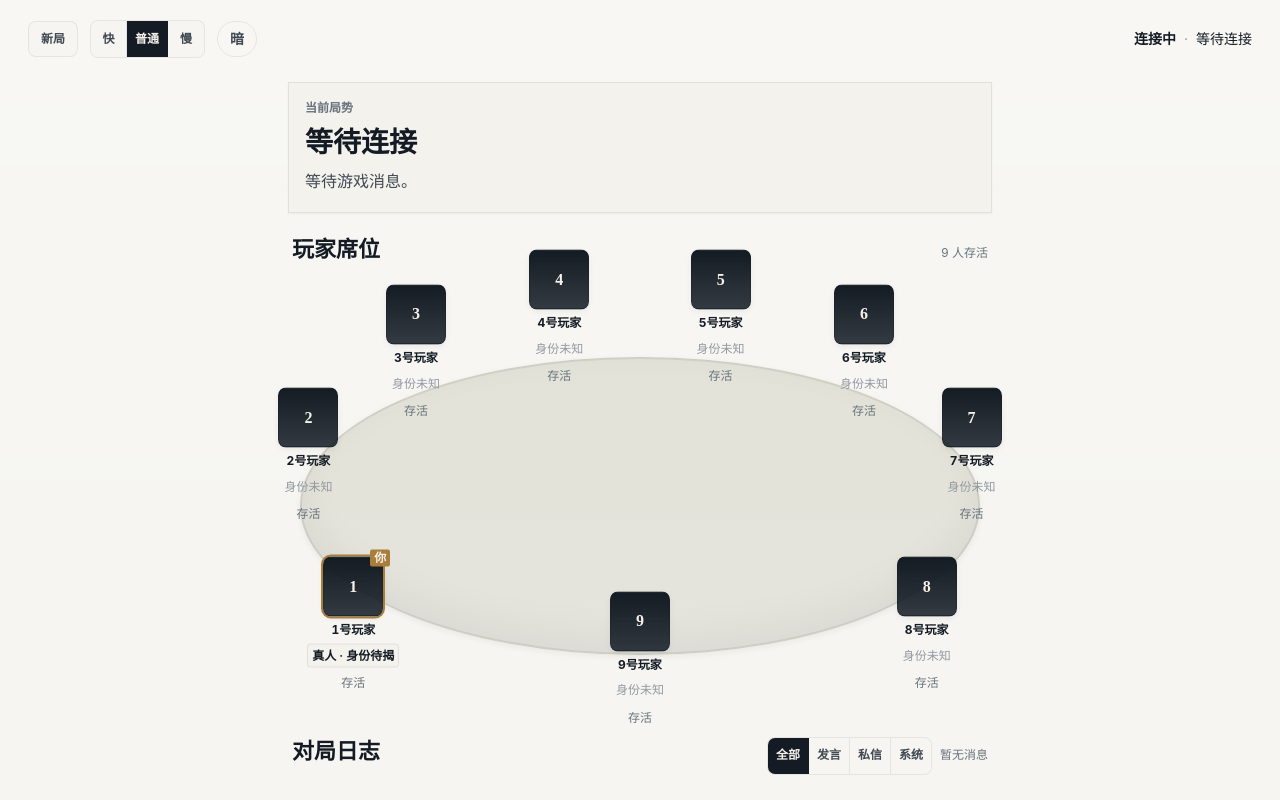
Scenario: App › toggles and persists the manual theme
The width and height of the screenshot is (1280, 800).
Click the button named "切换至暗色主题". click: (237, 39)
box: [217,21,257,57]
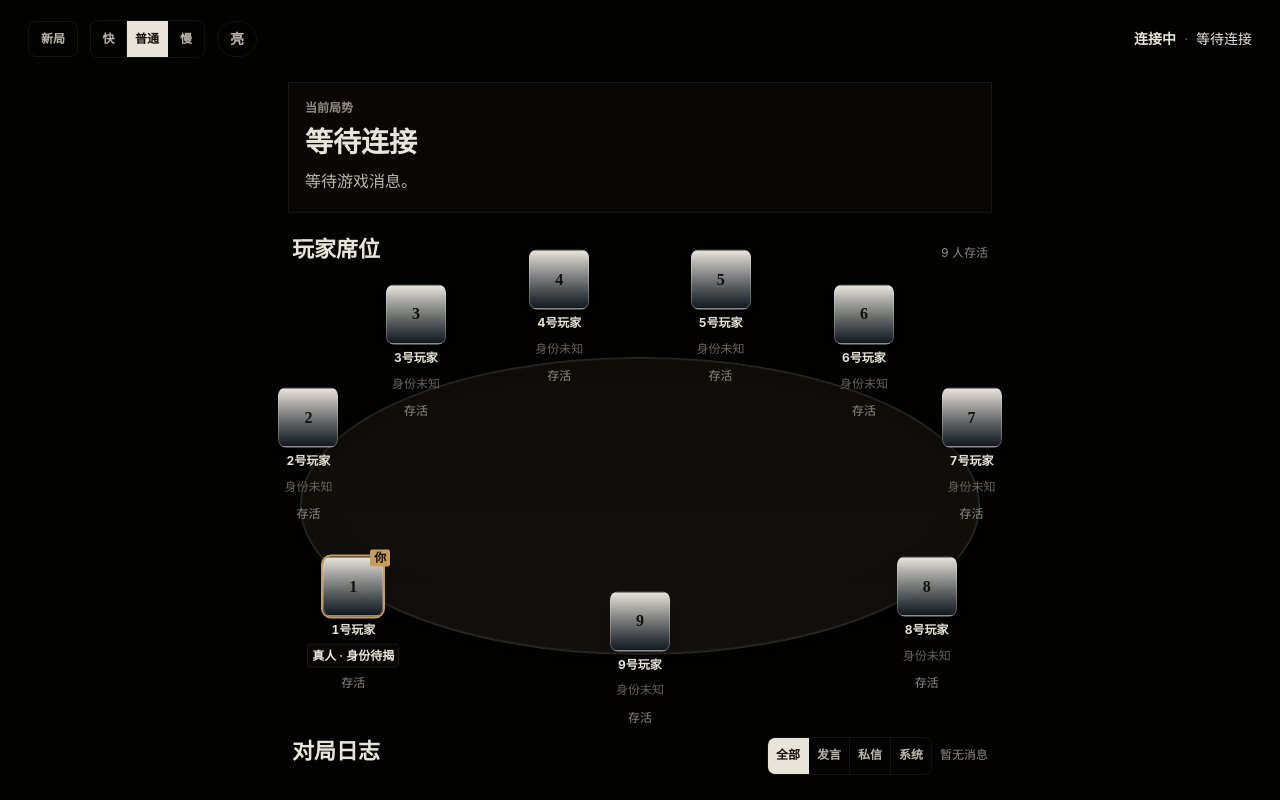
Check: the button named "切换至亮色主题" is shown, box [217,21,257,57]
